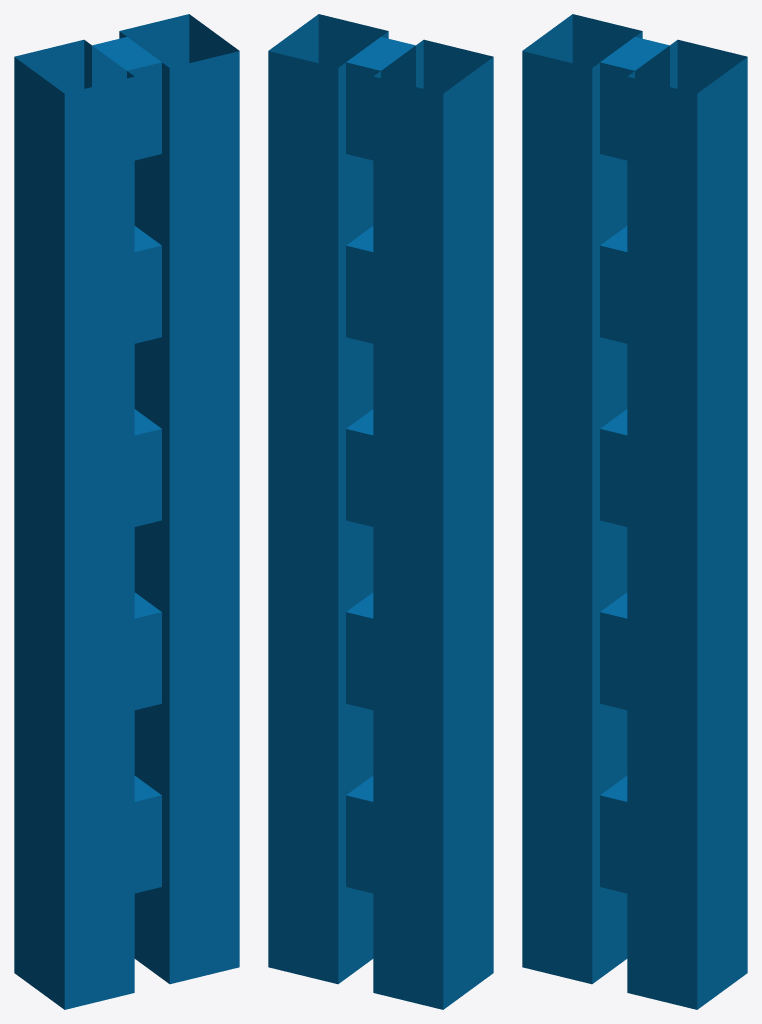
File: M_Column_Pierced.fbx
The picture shows the model from 3 angles, left to right: view 1: azimuth 30°, elevation 25°; view 2: azimuth 150°, elevation 25°; view 3: azimuth 330°, elevation 25°; orthographic projection.
Parts seen in each view (by area): view 1: Column_Chain_1x2x10; view 2: Column_Chain_1x2x10; view 3: Column_Chain_1x2x10.
Part boxes in pixels (x1,y1,x2,y2): Column_Chain_1x2x10: (14,14,239,1009); Column_Chain_1x2x10: (268,14,493,1009); Column_Chain_1x2x10: (522,14,747,1009).
Size of the model in its own units: 200 by 1000 by 100.
